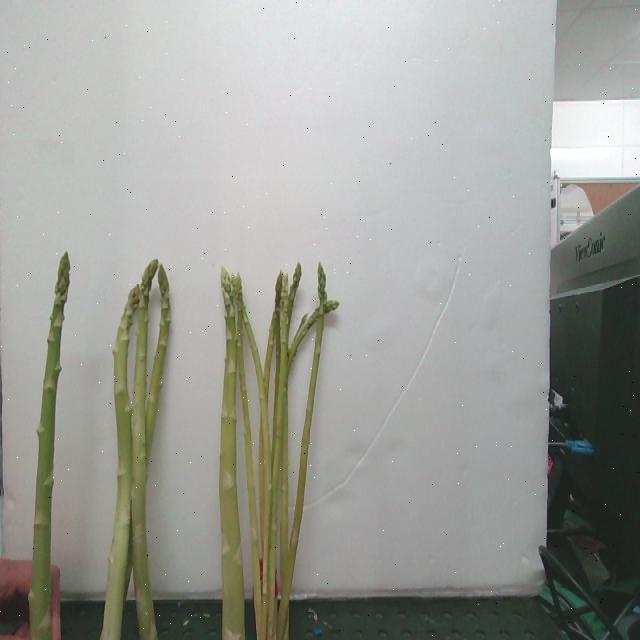aspargus: (29, 254, 69, 640), (219, 291, 250, 636)
